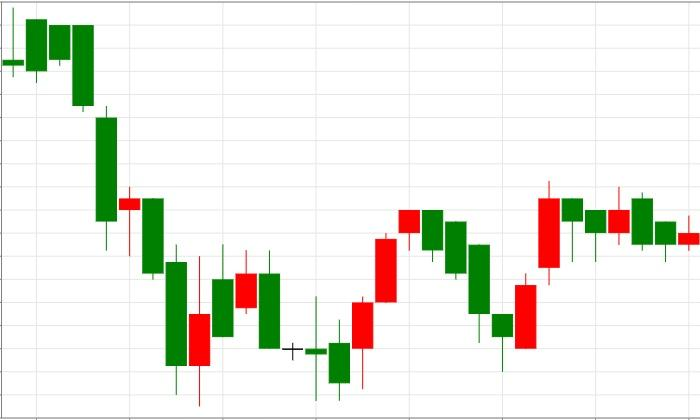hammer_rise: (422, 209, 513, 373)
